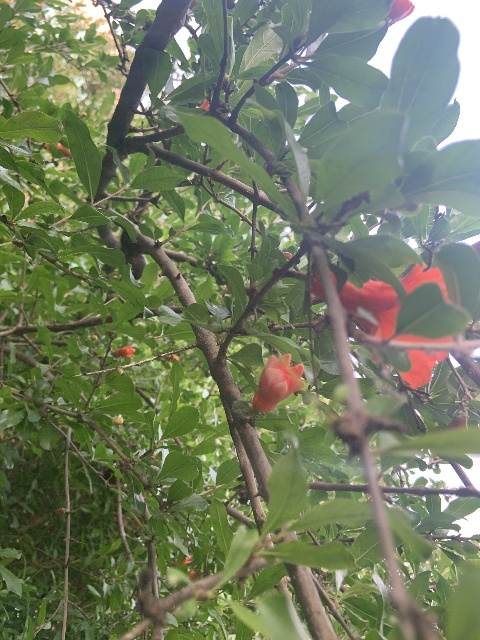flower: (309, 262, 456, 387), (252, 352, 306, 413), (113, 345, 135, 357)
